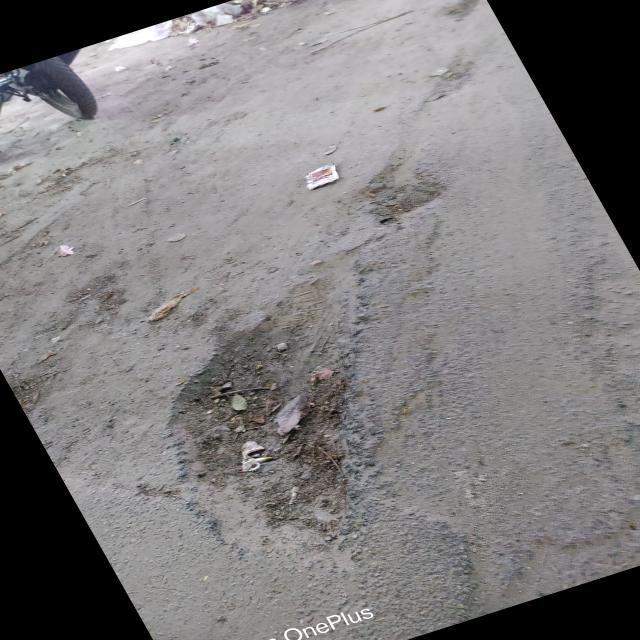potholes: (144, 255, 437, 557)
